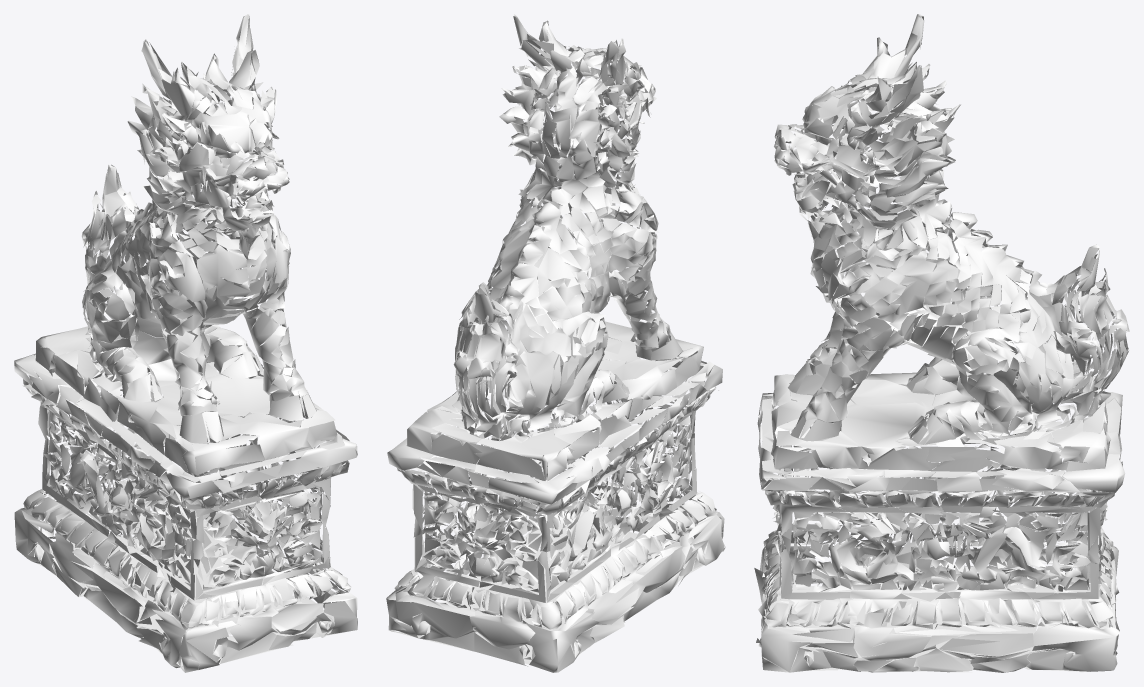
File: qilin_statue_lod2.glb
The picture shows the model from 3 angles, left to right: view 1: azimuth 30°, elevation 25°; view 2: azimuth 150°, elevation 25°; view 3: azimuth 270°, elevation 25°; orthographic projection. The views are drawn at different scales.
Visible parts, largest first — view 1: Mesh_0; view 2: Mesh_0; view 3: Mesh_0.
Part boxes in pixels (<box>): Mesh_0: <box>14,14,357,672</box>; Mesh_0: <box>386,14,725,672</box>; Mesh_0: <box>754,14,1129,672</box>.
Size of the model in its own units: 1.03 by 3 by 1.73.
1 material, 1 textured.
